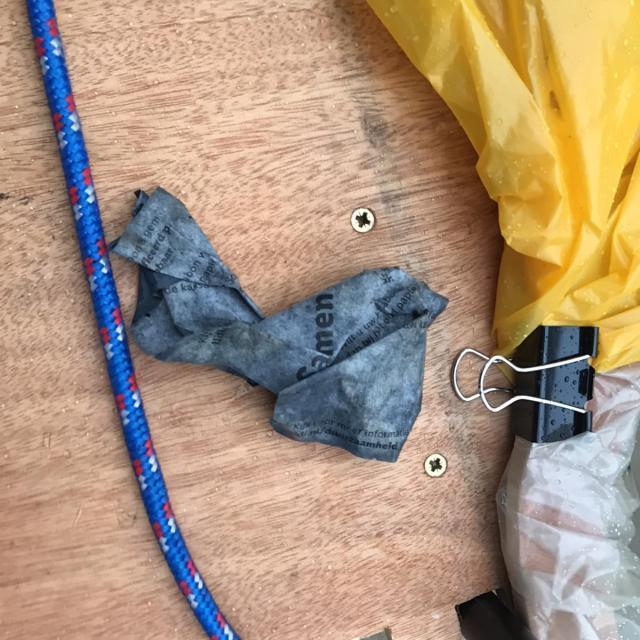Paper: (102, 181, 450, 464)
